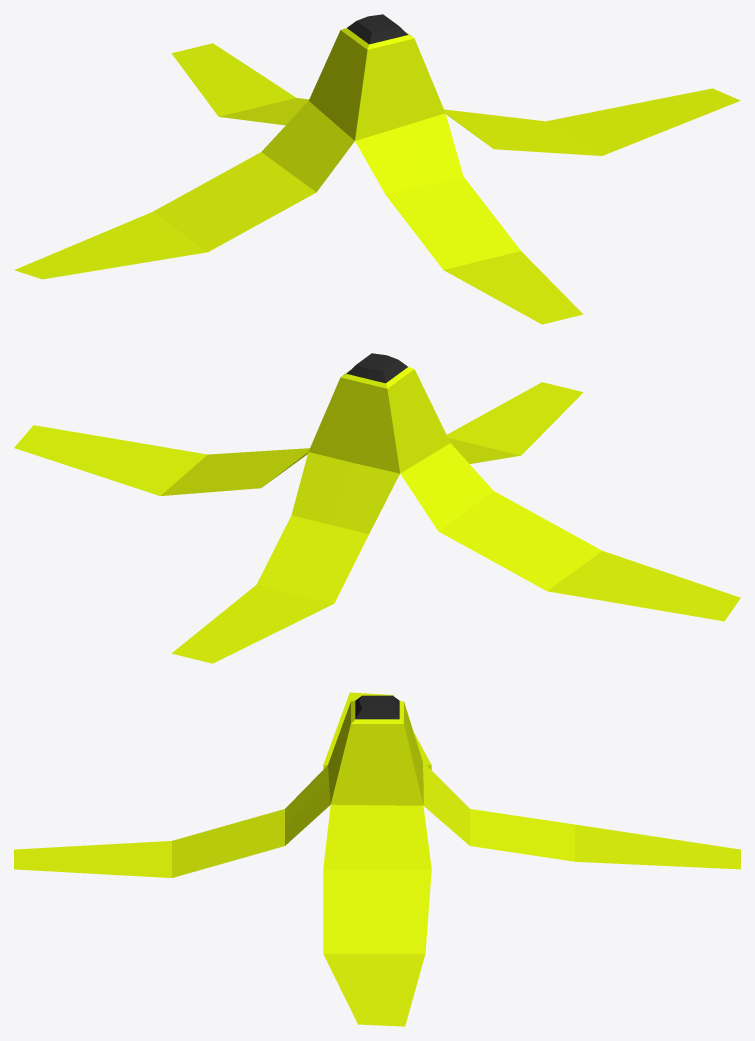
Rendered from LAUGH_TRACK_CLOWN_BANANA.fbx.
3 views of the same model, one above another, from view 1: azimuth 30°, elevation 25°; view 2: azimuth 150°, elevation 25°; view 3: azimuth 270°, elevation 25° (orthographic). The views are drawn at different scales.
Visible parts, largest first — view 1: BANANA.001; view 2: BANANA.001; view 3: BANANA.001.
Part boxes in pixels (left/top/right/bottom): BANANA.001: left=14, top=14, right=740, bottom=324; BANANA.001: left=14, top=353, right=740, bottom=663; BANANA.001: left=14, top=692, right=740, bottom=1026.
Bounding box in the file's own units: 1479 × 332 × 1340.
